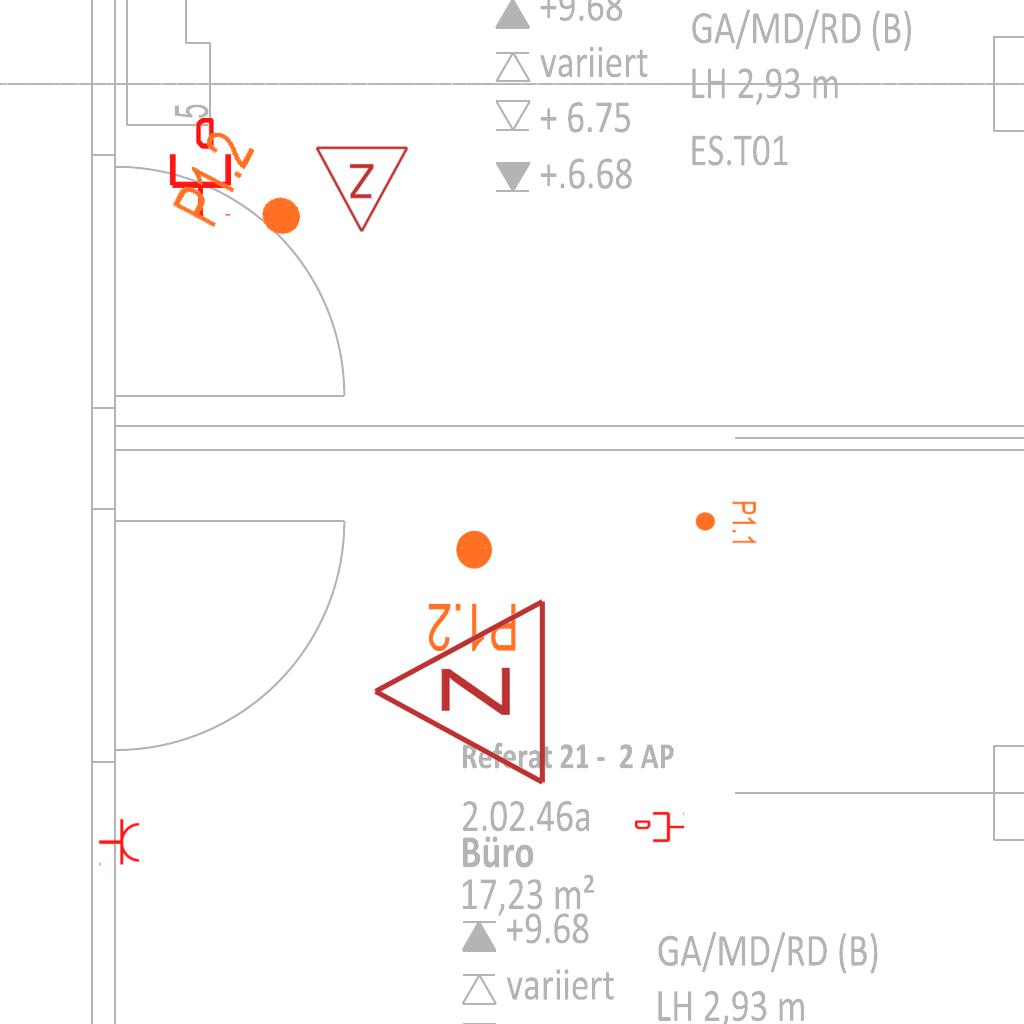Datenanschluss_einfach: (166, 118, 235, 218), (635, 810, 685, 844)
Downlight_LED_Einbauleuchten_Flur: (167, 123, 324, 267), (426, 527, 519, 655), (694, 500, 758, 546)
Schukosteckdose_einfach: (98, 818, 141, 868)
Zimmersignalleuchte: (360, 596, 560, 792), (314, 139, 412, 239)
